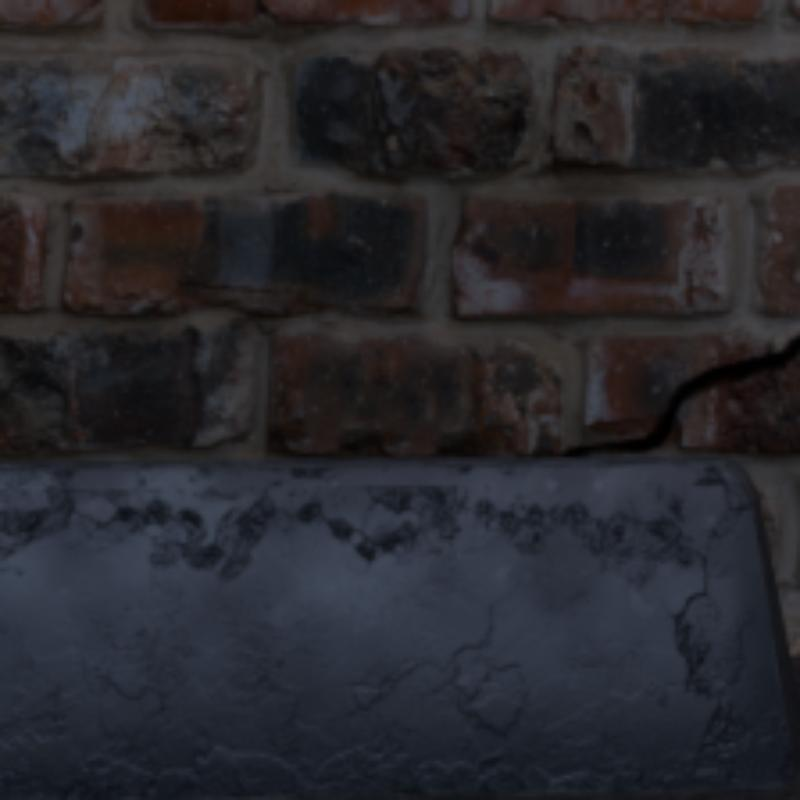pothole: (554, 336, 796, 454)
